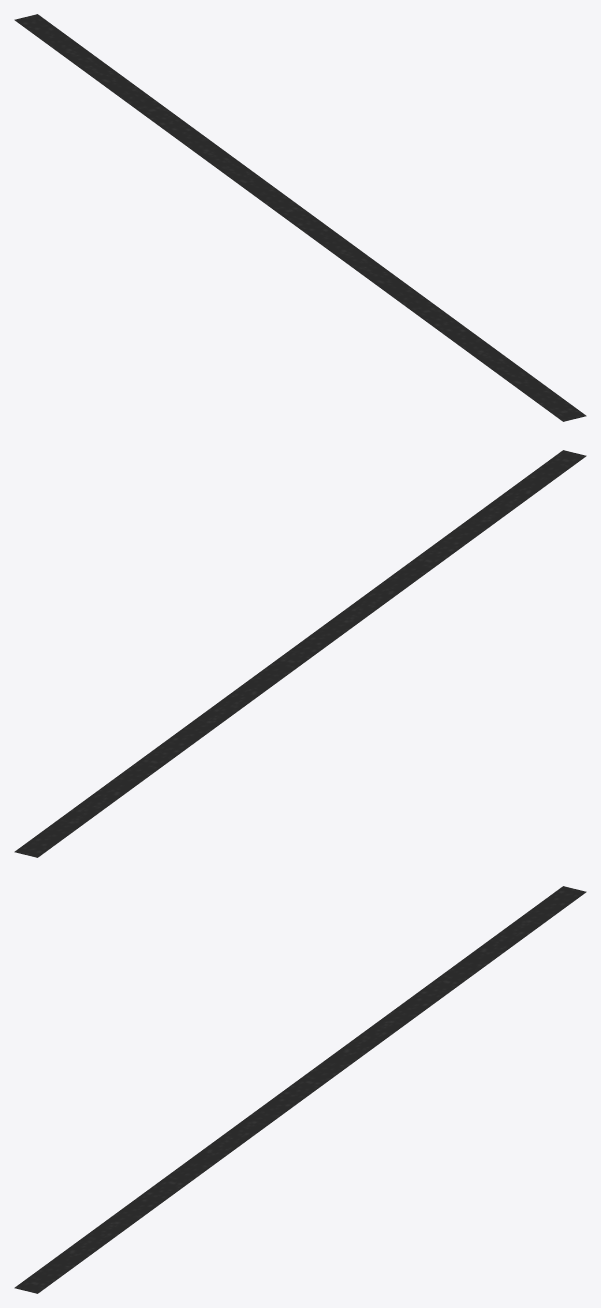
File: SW_ENV_RailBase_Narrow_20m.fbx
The picture shows the model from 3 angles, top to bottom: view 1: azimuth 30°, elevation 25°; view 2: azimuth 150°, elevation 25°; view 3: azimuth 330°, elevation 25°; orthographic projection.
Parts seen in each view (by area): view 1: SW_ENV_RailBase_Narrow_20m; view 2: SW_ENV_RailBase_Narrow_20m; view 3: SW_ENV_RailBase_Narrow_20m.
Boxes of the visible parts, box(x1,y1,x2,y2) form: SW_ENV_RailBase_Narrow_20m: box(14, 14, 586, 421); SW_ENV_RailBase_Narrow_20m: box(14, 450, 586, 857); SW_ENV_RailBase_Narrow_20m: box(14, 886, 586, 1293).
Size of the model in its own units: 50 by 1.24e-06 by 2000.
